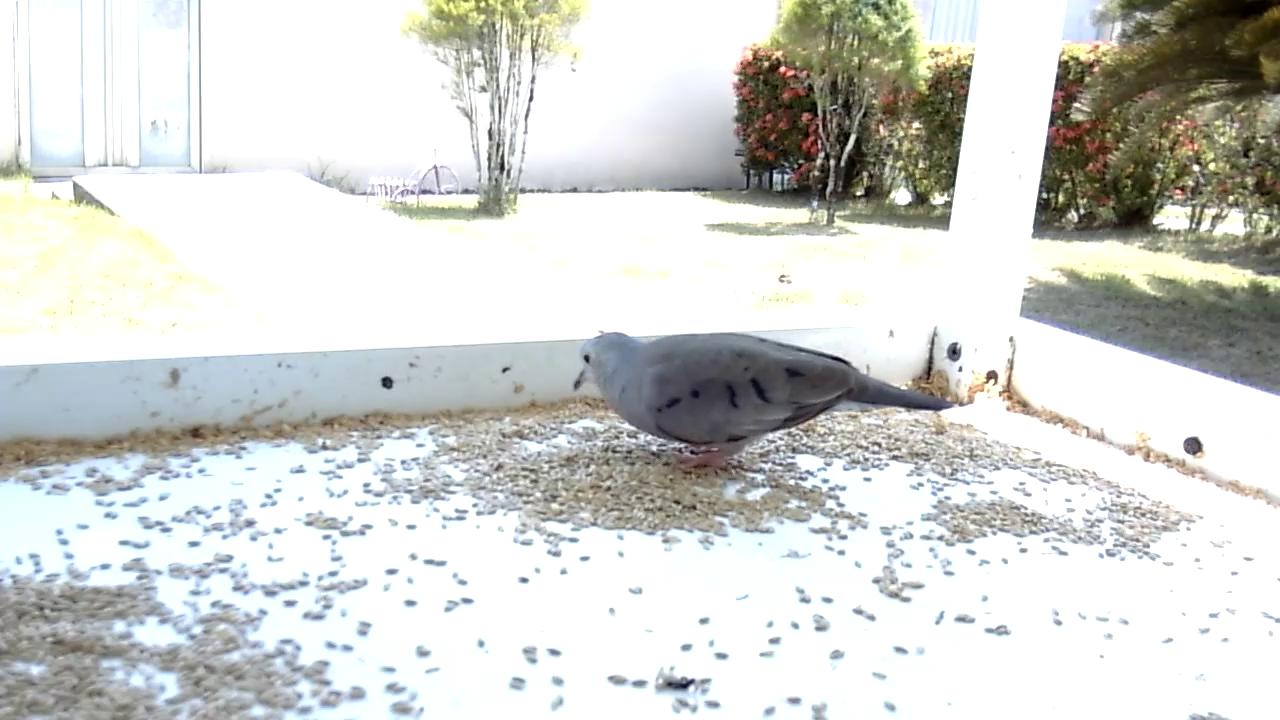rolinha: (570, 328, 959, 475)
